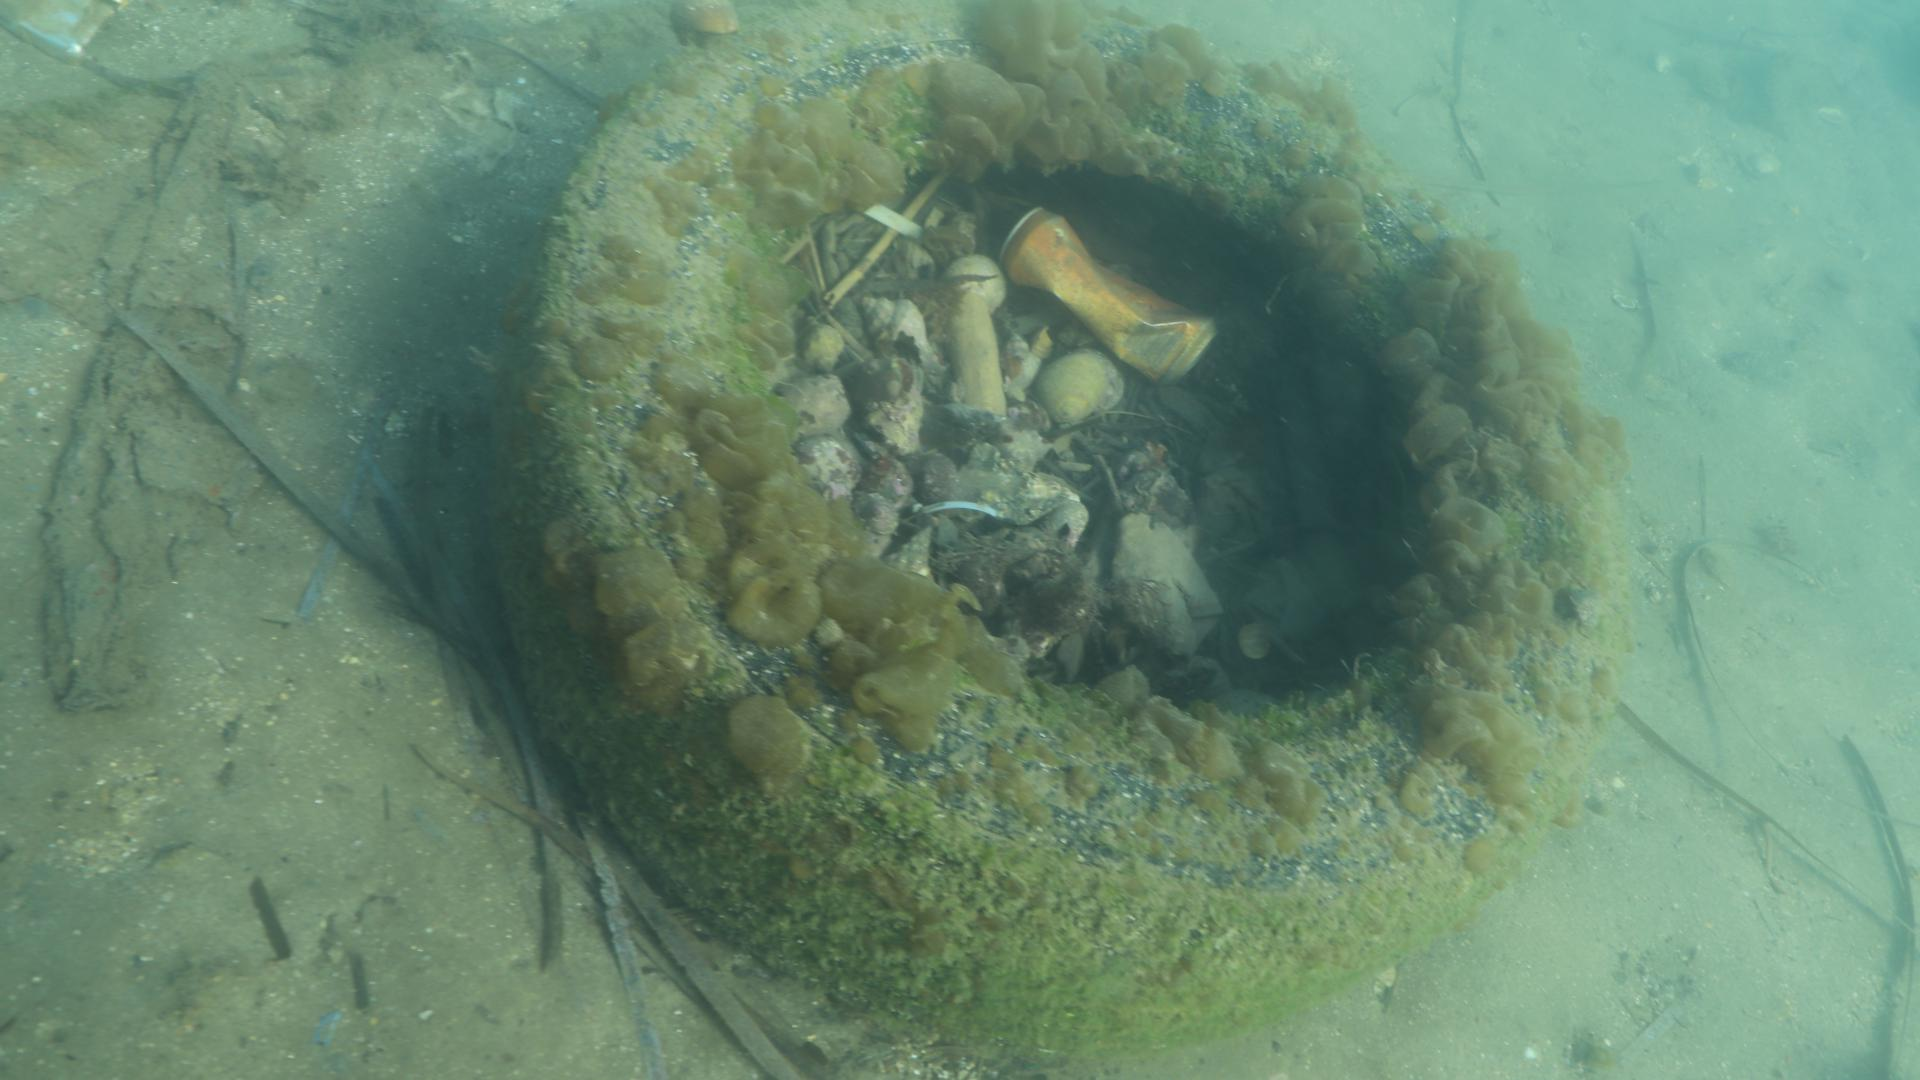tire: (488, 0, 1618, 1059)
